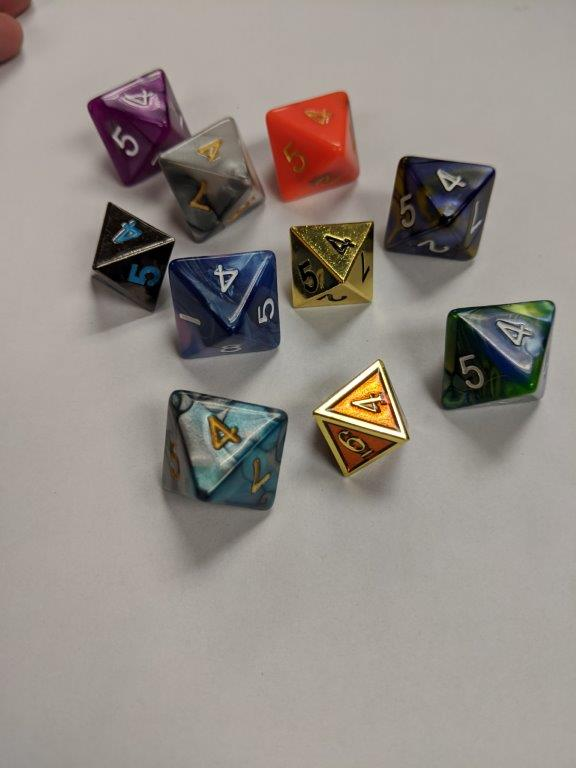d8-4: (156, 386, 288, 510), (158, 110, 270, 246), (437, 295, 559, 410), (83, 68, 194, 190), (308, 358, 411, 479), (383, 152, 499, 259), (167, 252, 281, 360), (266, 91, 362, 199), (88, 196, 174, 314), (288, 217, 374, 306)
